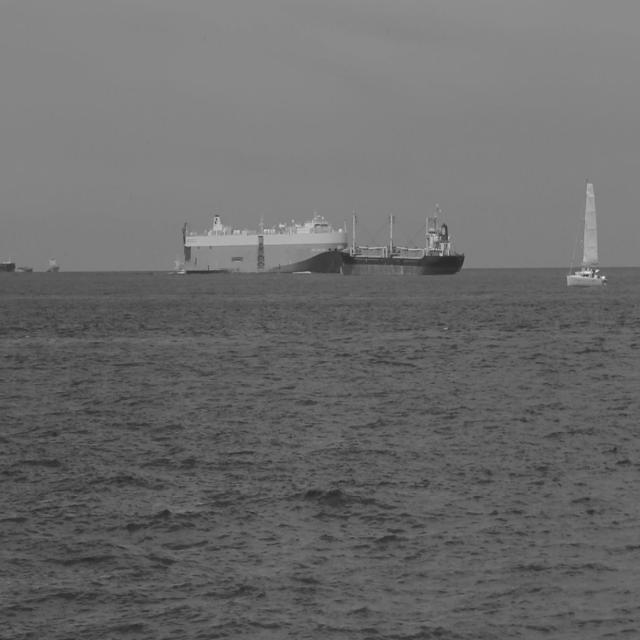ship: (180, 210, 348, 276), (338, 200, 467, 278), (565, 178, 608, 288), (46, 252, 60, 274), (0, 256, 16, 274), (16, 263, 34, 274)
